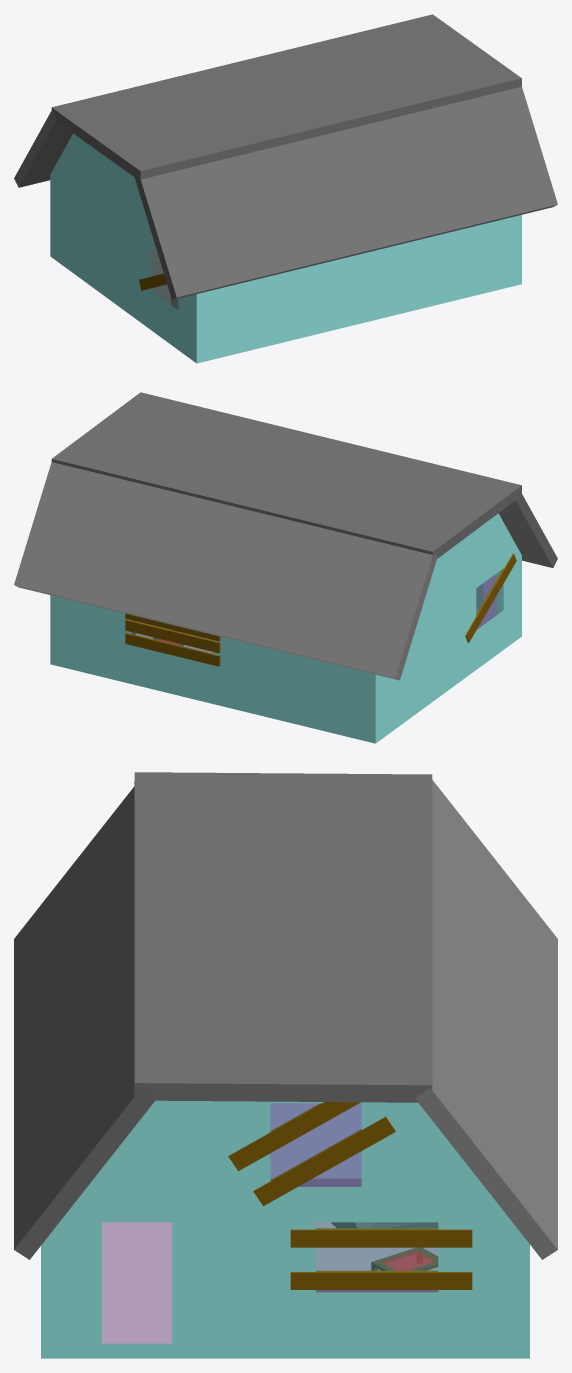
The model's file is house 3.fbx.
3 views of the same model, one above another, from view 1: azimuth 30°, elevation 25°; view 2: azimuth 150°, elevation 25°; view 3: azimuth 270°, elevation 25° (orthographic). The views are drawn at different scales.
Parts seen in each view (by area): view 1: Cube.010; view 2: Cube.010; view 3: Cube.010, Cube.007, Cube.003.
Boxes of the visible parts, <box> form: Cube.010: <box>14,14,557,363</box>; Cube.010: <box>14,392,557,743</box>; Cube.010: <box>14,772,557,1358</box>; Cube.007: <box>371,1247,438,1270</box>; Cube.003: <box>331,1222,438,1247</box>.
Size of the model in its own units: 2074 by 929 by 1533.
